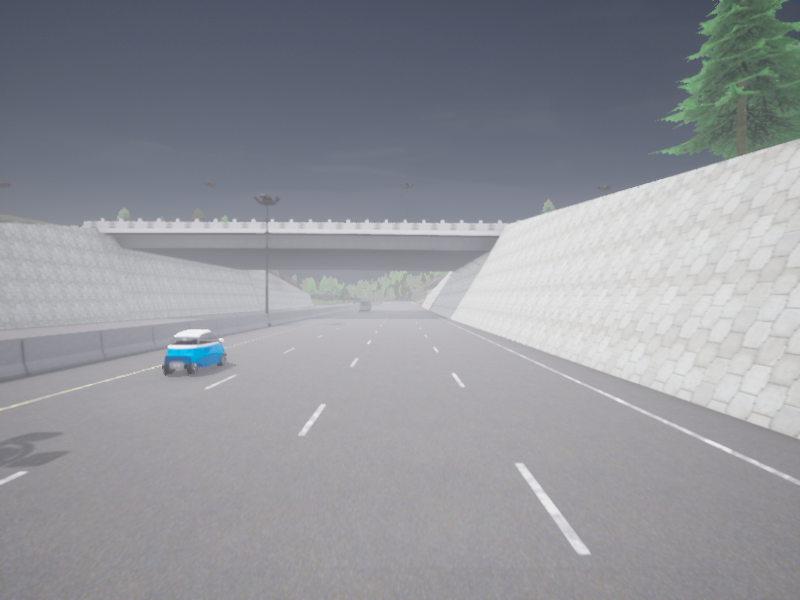vehicle: (163, 330, 225, 374), (360, 299, 371, 311)
